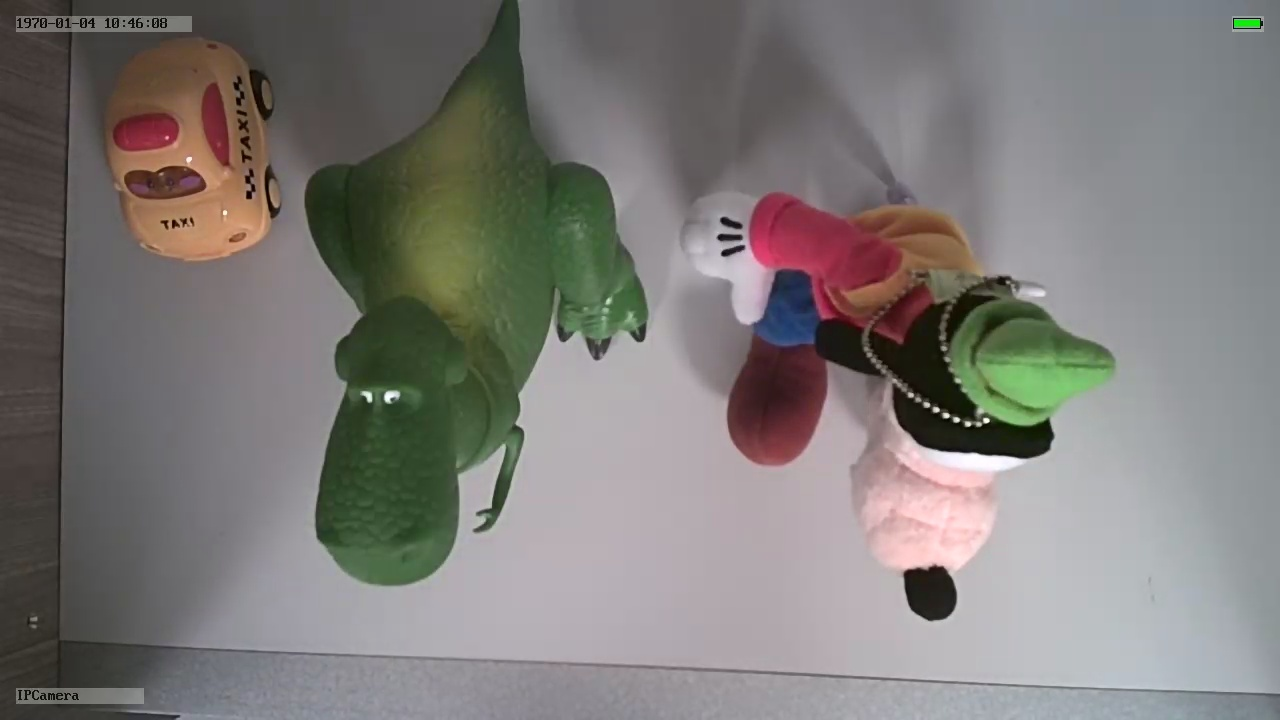car: (105, 34, 282, 260)
goofy: (667, 181, 1124, 624)
rex: (303, 62, 652, 590)
